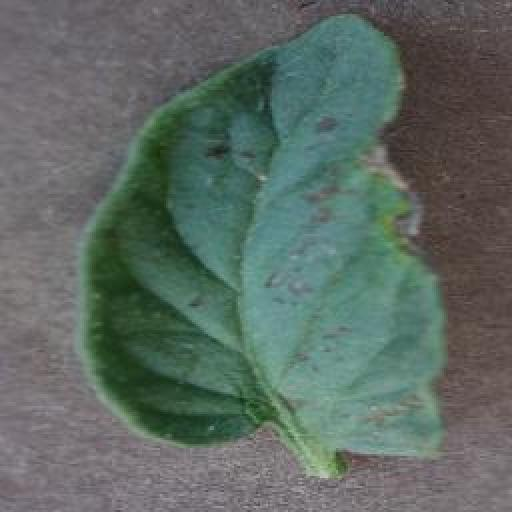Early Blight: (75, 15, 448, 472)
